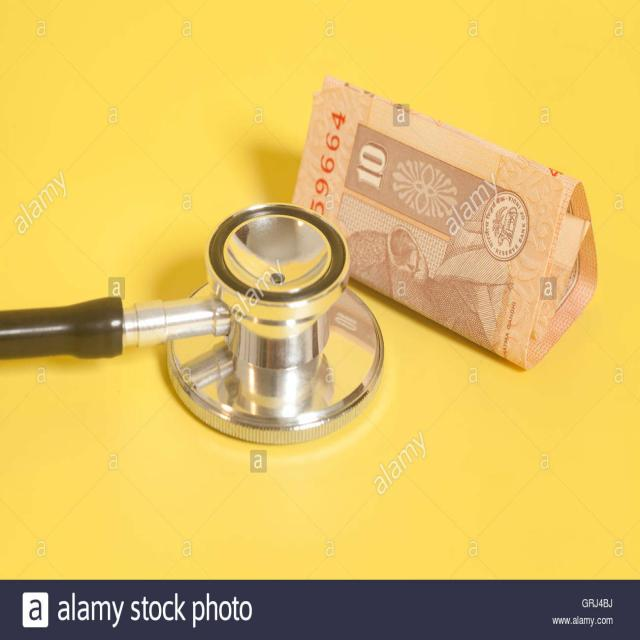10IndianRupees: (296, 82, 598, 369)
